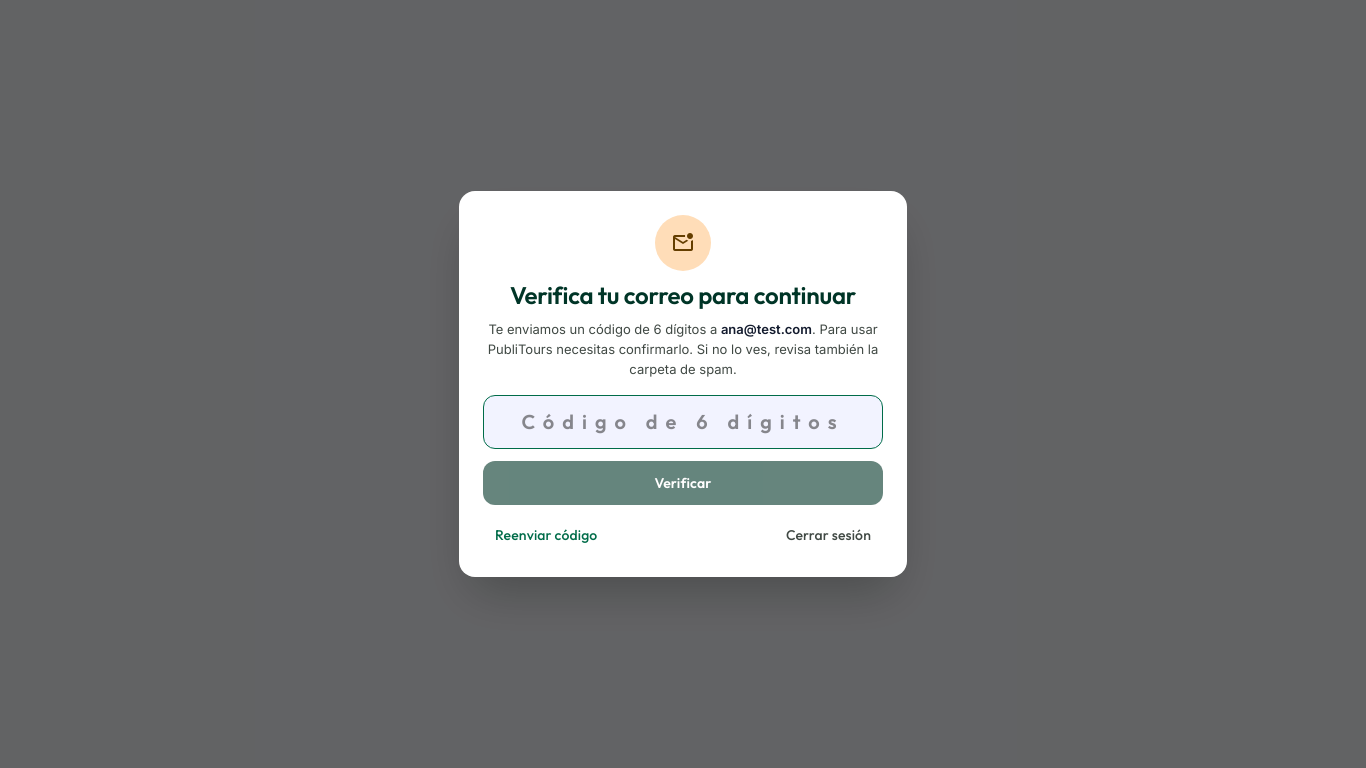
AvisoVerificarCorreo › con un código incorrecto muestra el error y no cambia la sesión
Type "000000" into the field named "Código de verificación" at (683, 422), box [483,395,883,449]
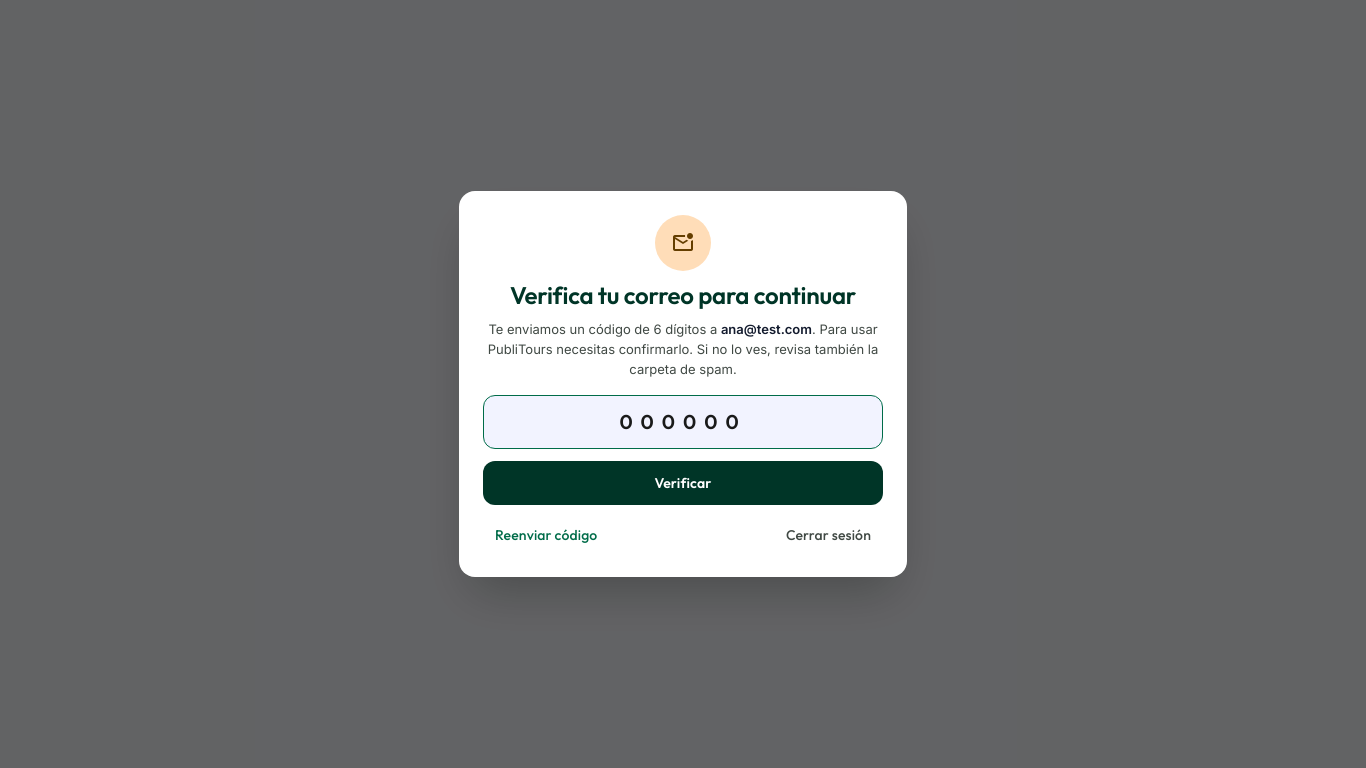
Click the button "Verificar" at (683, 483), box [483,461,883,505]
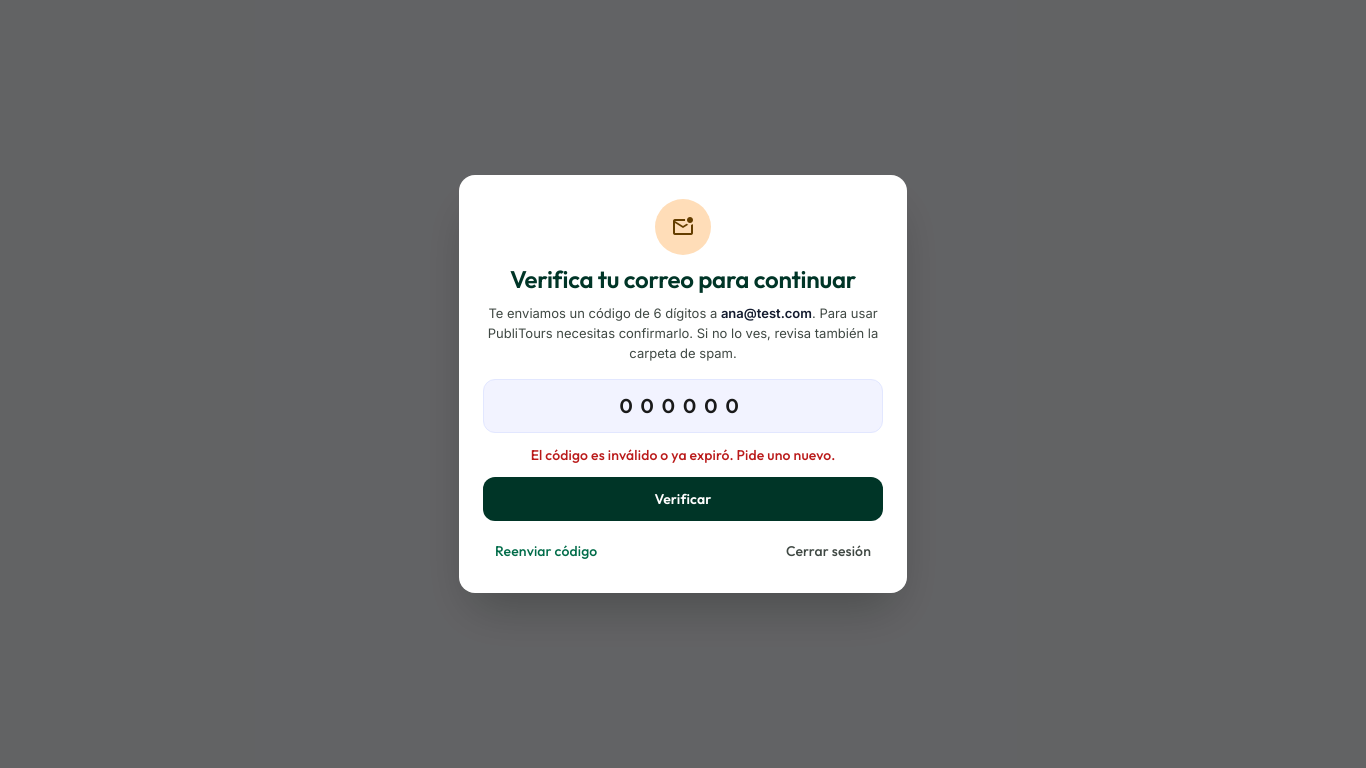
Check: the text "El código es inválido o ya expiró. Pide uno nuevo." is shown, box [531,446,835,464]
